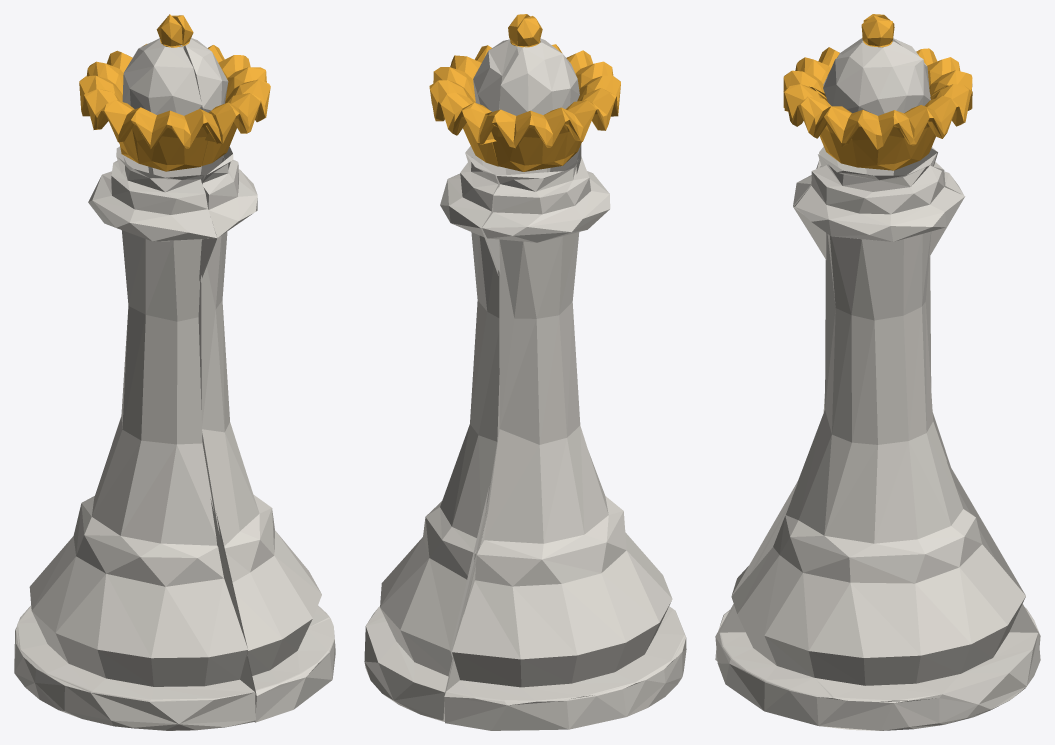
Rendered from queen.glb.
3 renders of one model, left to right at view 1: azimuth 30°, elevation 25°; view 2: azimuth 150°, elevation 25°; view 3: azimuth 270°, elevation 25°, orthographic.
Parts seen in each view (by area): view 1: body, accent; view 2: body, accent; view 3: body, accent.
Part boxes in pixels (x1,y1,x2,y2): body: (14, 38, 335, 730); accent: (79, 14, 270, 171); body: (364, 38, 686, 730); accent: (429, 14, 620, 171); body: (715, 38, 1040, 730); accent: (783, 14, 972, 170).
Size of the model in its own units: 0.3641 by 0.809 by 0.3678.
